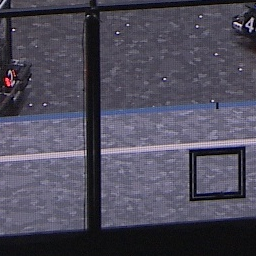Dead: (241, 16, 256, 34)
Red: (5, 70, 17, 88)
Robot: (1, 2, 35, 114), (231, 5, 256, 40)
